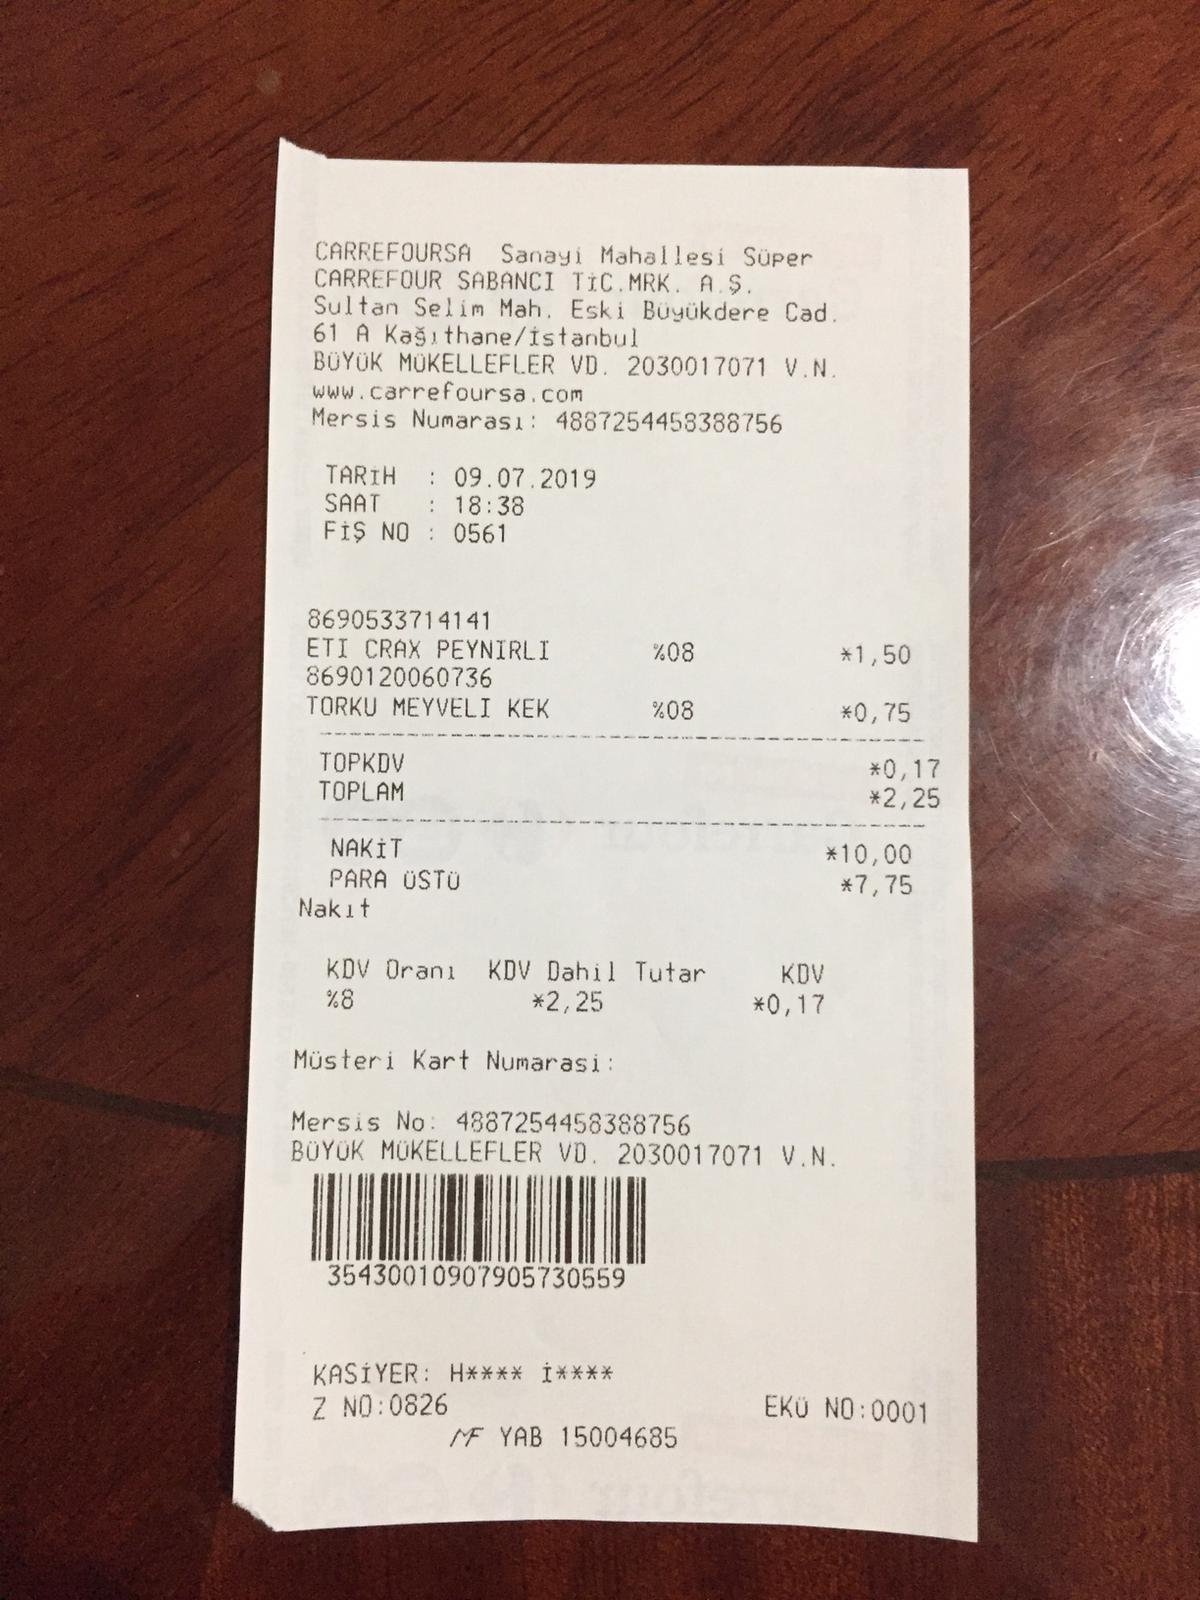total: (314, 774, 950, 816)
